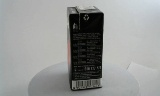appy: (61, 5, 97, 91)
